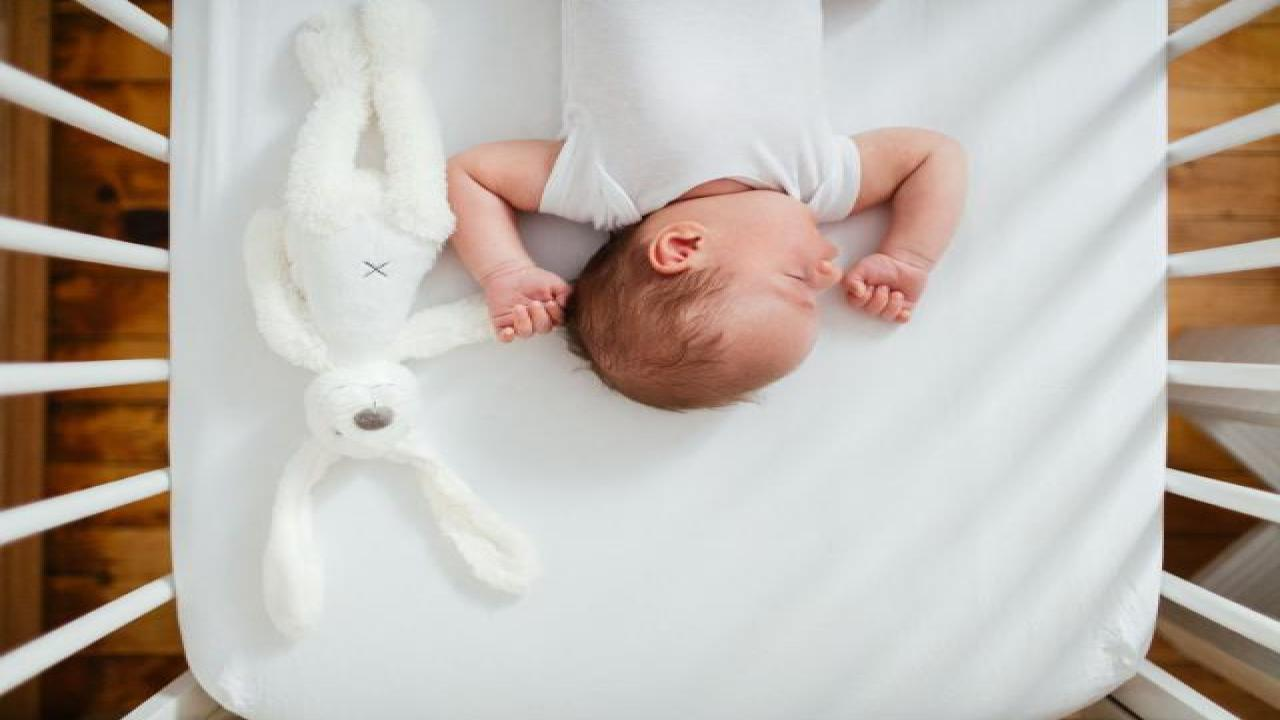hand: (468, 271, 576, 342), (852, 253, 932, 327)
